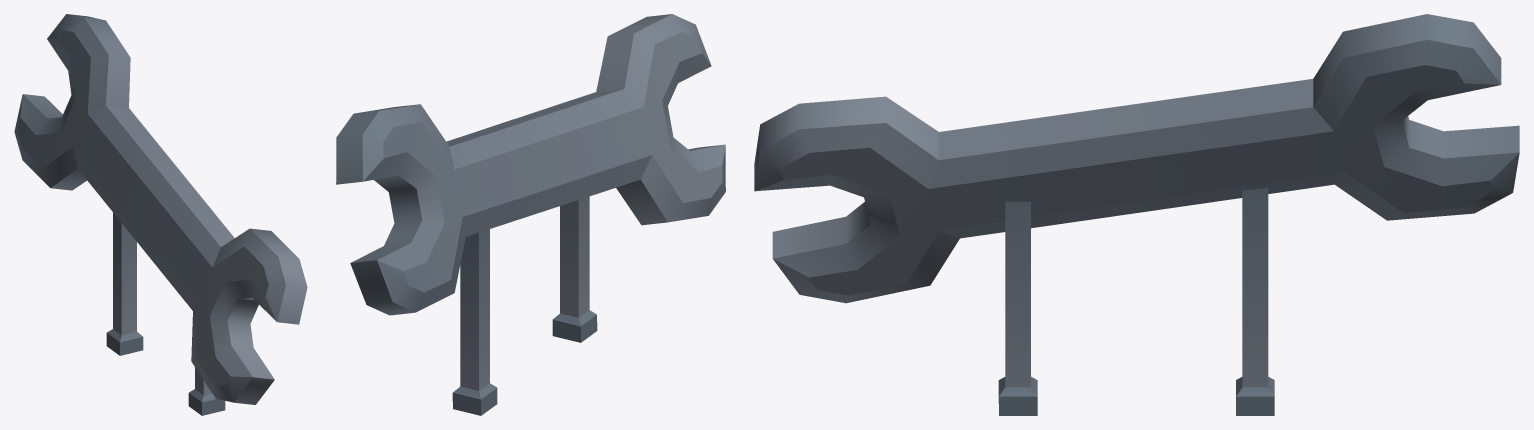
File: FlatWrenchSign_1_B.glb
The picture shows the model from 3 angles, left to right: view 1: azimuth 30°, elevation 25°; view 2: azimuth 150°, elevation 25°; view 3: azimuth 270°, elevation 25°; orthographic projection. The views are drawn at different scales.
Parts seen in each view (by area): view 1: FlatWrenchSign_1_B; view 2: FlatWrenchSign_1_B; view 3: FlatWrenchSign_1_B.
Part boxes in pixels (x1,y1,x2,y2): FlatWrenchSign_1_B: [14, 14, 307, 415]; FlatWrenchSign_1_B: [336, 14, 725, 415]; FlatWrenchSign_1_B: [754, 14, 1519, 415].
Size of the model in its own units: 0.8511 by 2.37 by 4.03.
2 materials, 2 textured.
